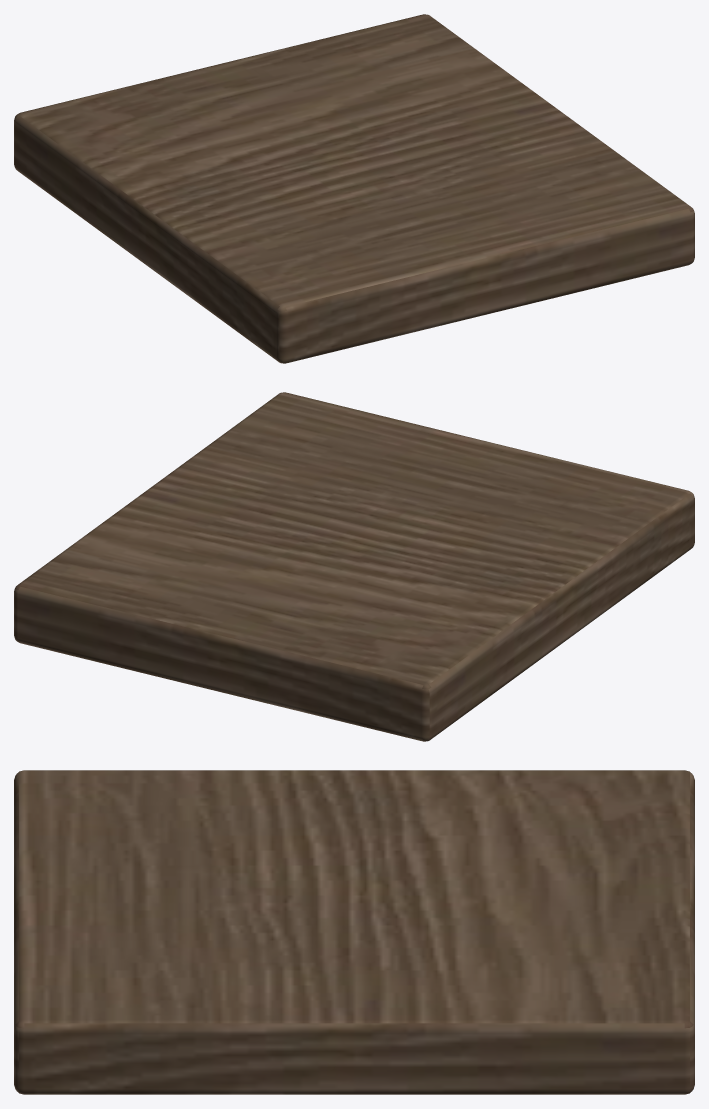
File: bench.glb
The picture shows the model from 3 angles, top to bottom: view 1: azimuth 30°, elevation 25°; view 2: azimuth 150°, elevation 25°; view 3: azimuth 270°, elevation 25°; orthographic projection. The views are drawn at different scales.
Visible parts, largest first — view 1: desk; view 2: desk; view 3: desk.
Boxes of the visible parts, x1,y1,x2,y2 form: desk: [14, 14, 694, 363]; desk: [14, 392, 694, 741]; desk: [14, 770, 694, 1094].
Bounding box in the file's own units: 134 × 18 × 150.
Materials: 1 (1 with a texture image).
